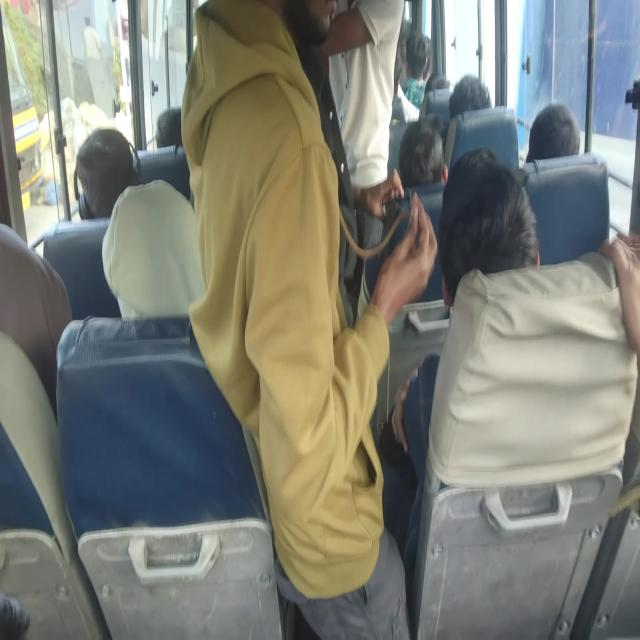person: (211, 1, 332, 363), (588, 210, 640, 476), (319, 0, 403, 159), (119, 182, 208, 300), (447, 176, 523, 290), (0, 250, 65, 342), (87, 120, 131, 213), (526, 115, 583, 158), (452, 80, 503, 128), (404, 130, 446, 188), (154, 114, 197, 152), (409, 36, 444, 66), (431, 67, 462, 98)
